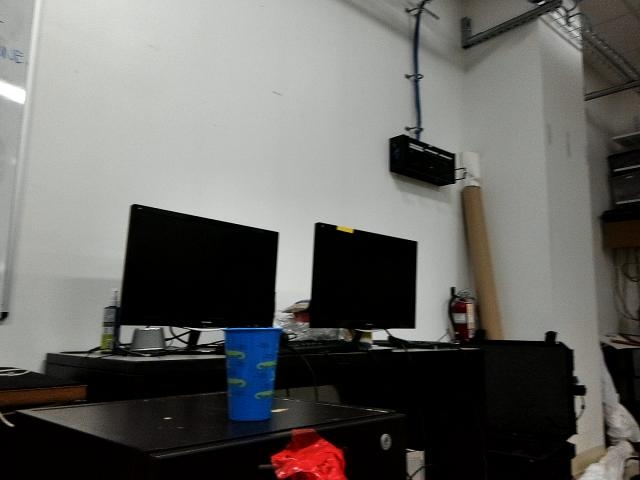water_cup: (220, 322, 283, 425)
